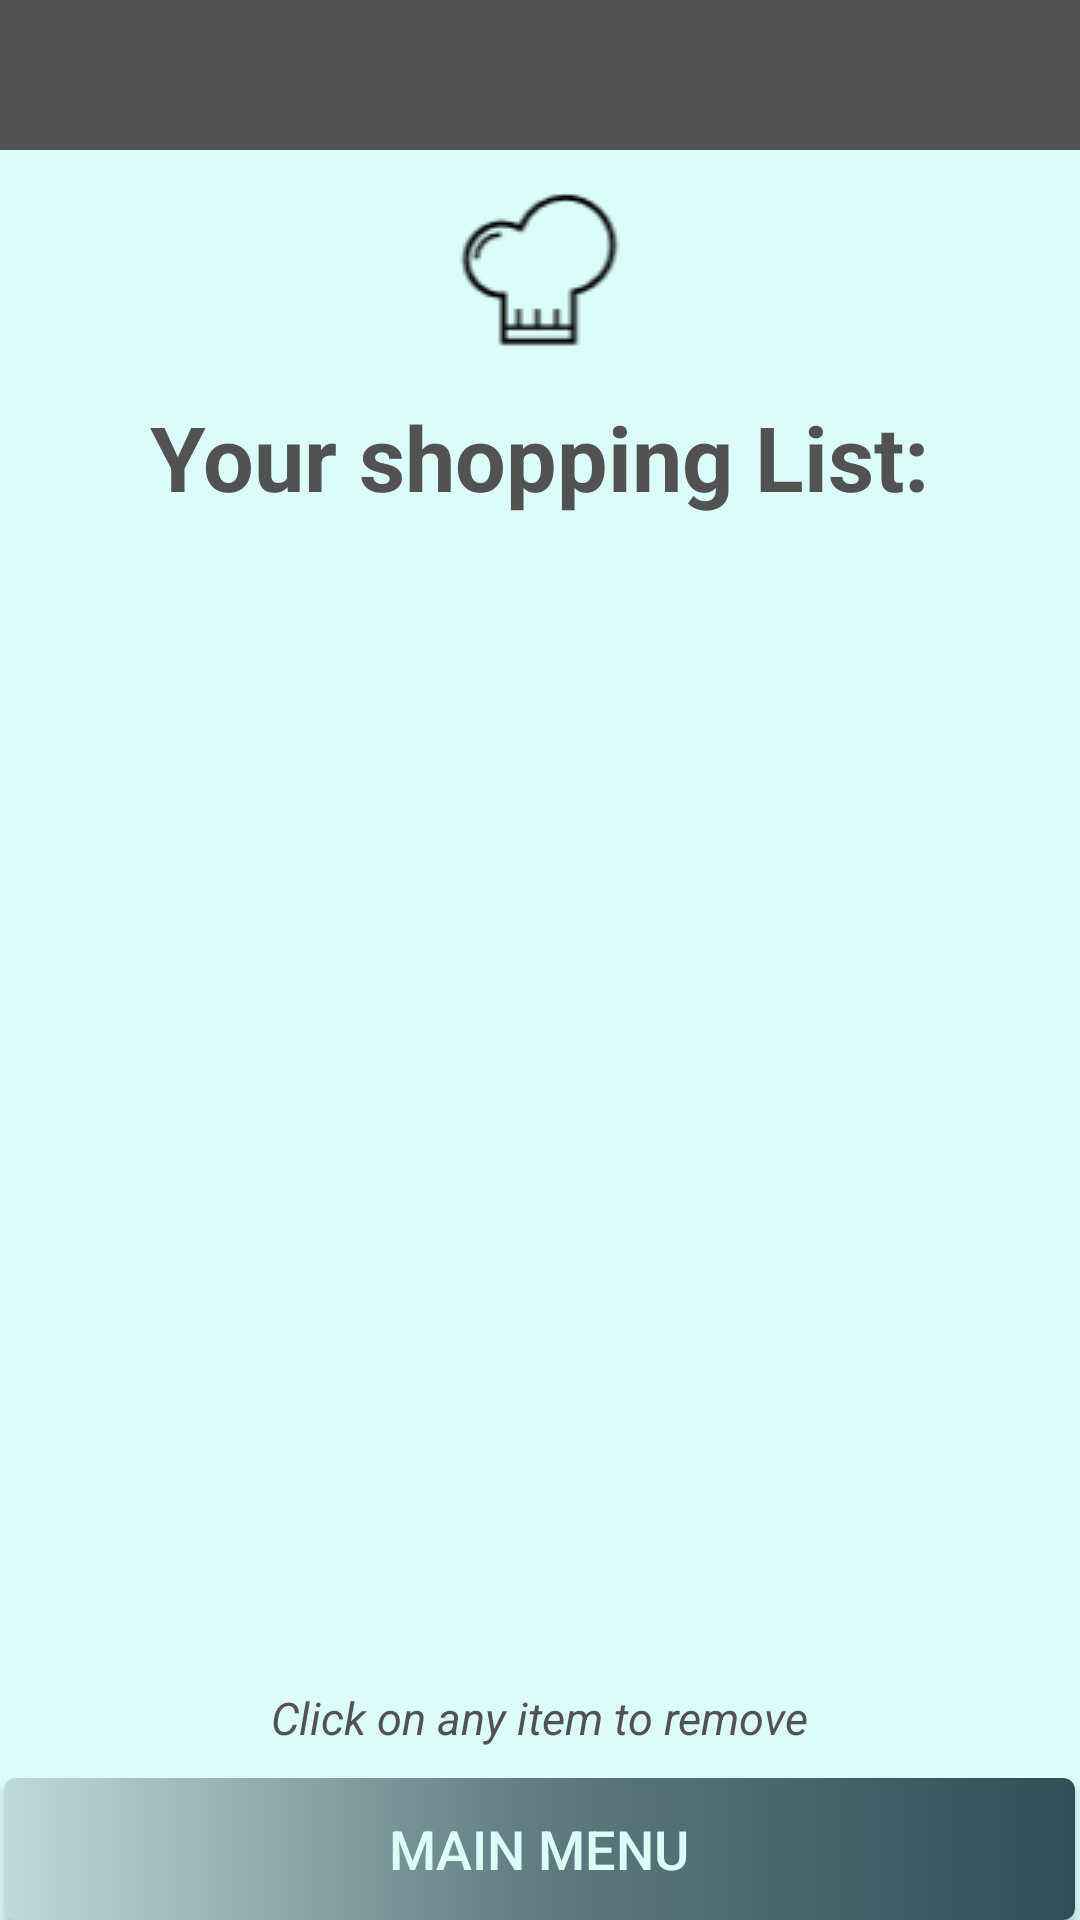

Screen size 1080 x 1920. Icon name, then its center in pixels as point (x, y):
chef hat: point (540, 270)
